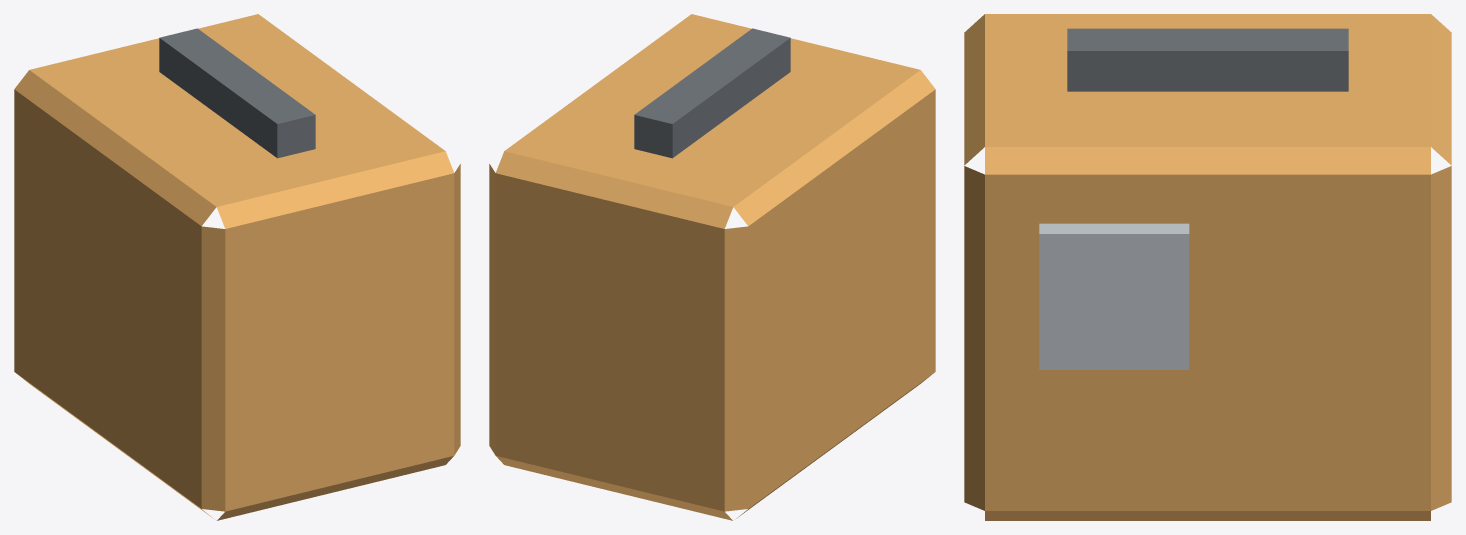
File: welding_unit.glb
The picture shows the model from 3 angles, left to right: view 1: azimuth 30°, elevation 25°; view 2: azimuth 150°, elevation 25°; view 3: azimuth 270°, elevation 25°; orthographic projection. The views are drawn at different scales.
Parts seen in each view (by area): view 1: HousingAccent, ErgonomicGrip; view 2: HousingAccent, ErgonomicGrip; view 3: HousingAccent, MetalBody, ErgonomicGrip.
Part boxes in pixels (bbox=[...]): HousingAccent: bbox=[14, 14, 460, 520]; ErgonomicGrip: bbox=[159, 28, 315, 158]; HousingAccent: bbox=[489, 14, 935, 520]; ErgonomicGrip: bbox=[634, 28, 790, 158]; HousingAccent: bbox=[964, 14, 1451, 520]; MetalBody: bbox=[1039, 223, 1189, 369]; ErgonomicGrip: bbox=[1067, 28, 1348, 91].
Bounding box in the file's own units: 0.406 × 0.488 × 0.52.
